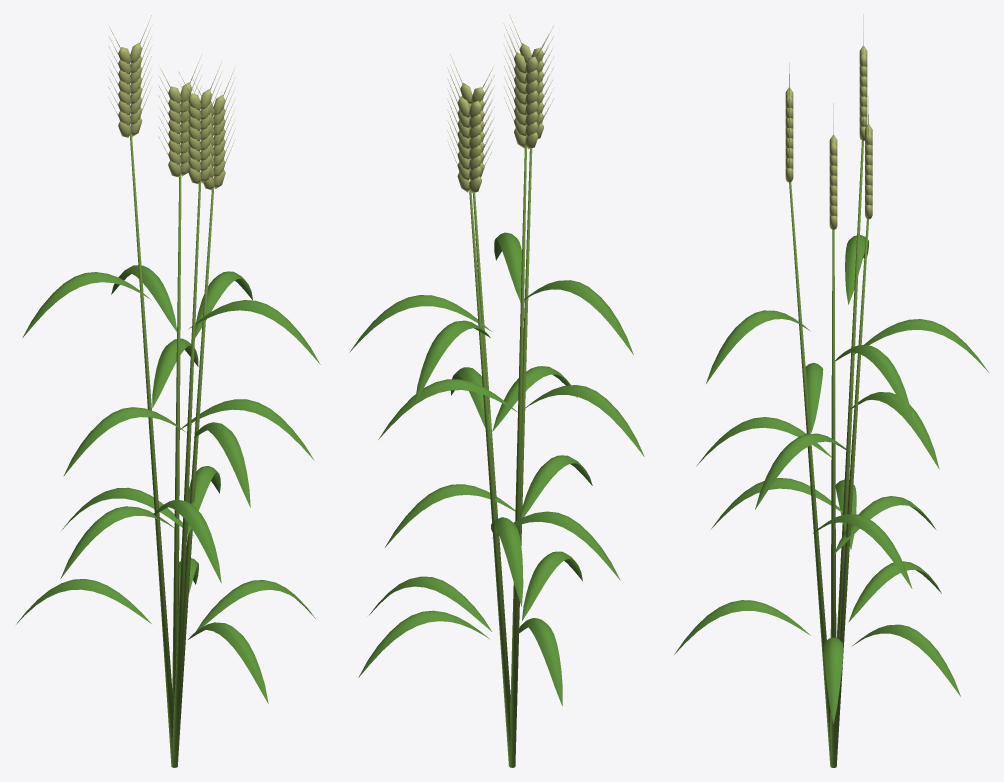
The model's file is wheat.glb.
The picture shows the model from 3 angles, left to right: view 1: azimuth 30°, elevation 25°; view 2: azimuth 150°, elevation 25°; view 3: azimuth 270°, elevation 25°; orthographic projection. The views are drawn at different scales.
Parts seen in each view (by area): view 1: Wheat_Narrow_Curved_Leaves, Wheat_Tillering_Stems, Wheat_Paired_Spikelets, Wheat_Fine_Awns; view 2: Wheat_Narrow_Curved_Leaves, Wheat_Tillering_Stems, Wheat_Paired_Spikelets, Wheat_Fine_Awns; view 3: Wheat_Narrow_Curved_Leaves, Wheat_Tillering_Stems, Wheat_Paired_Spikelets.
Part boxes in pixels (box(x1,y1,x2,y2)): Wheat_Narrow_Curved_Leaves: box(16, 265, 320, 703); Wheat_Tillering_Stems: box(130, 127, 214, 767); Wheat_Paired_Spikelets: box(118, 43, 225, 190); Wheat_Fine_Awns: box(108, 15, 235, 162); Wheat_Narrow_Curved_Leaves: box(349, 232, 644, 706); Wheat_Tillering_Stems: box(469, 138, 532, 767); Wheat_Paired_Spikelets: box(457, 43, 543, 193); Wheat_Fine_Awns: box(447, 15, 553, 171); Wheat_Narrow_Curved_Leaves: box(674, 235, 988, 724); Wheat_Tillering_Stems: box(789, 140, 868, 767); Wheat_Paired_Spikelets: box(785, 45, 872, 230).
Size of the model in its own units: 0.5872 by 1.5 by 0.5902.
